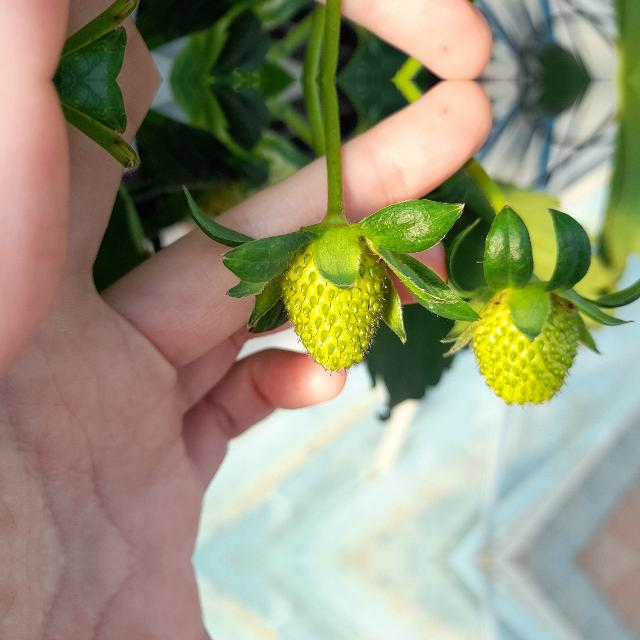Health_25: (278, 240, 388, 376), (468, 284, 582, 410)
